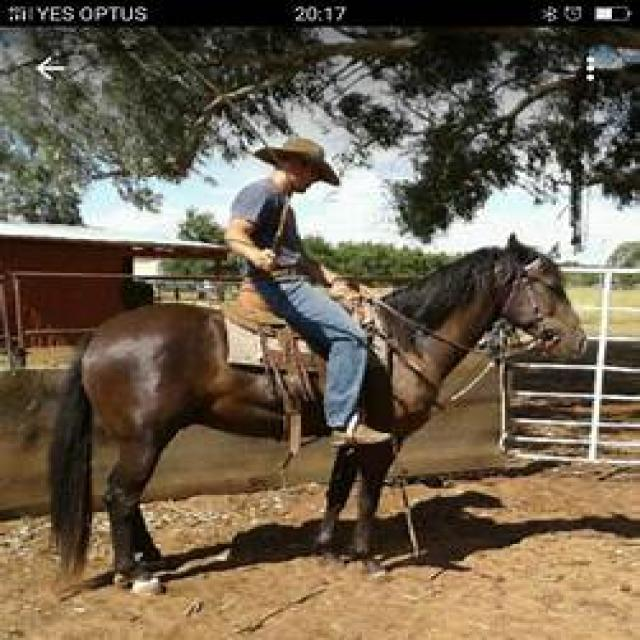horse: (329, 239, 586, 565), (48, 305, 291, 591)
